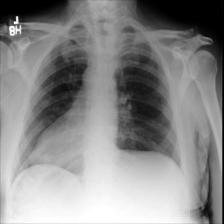normal: (8, 19, 186, 171)
